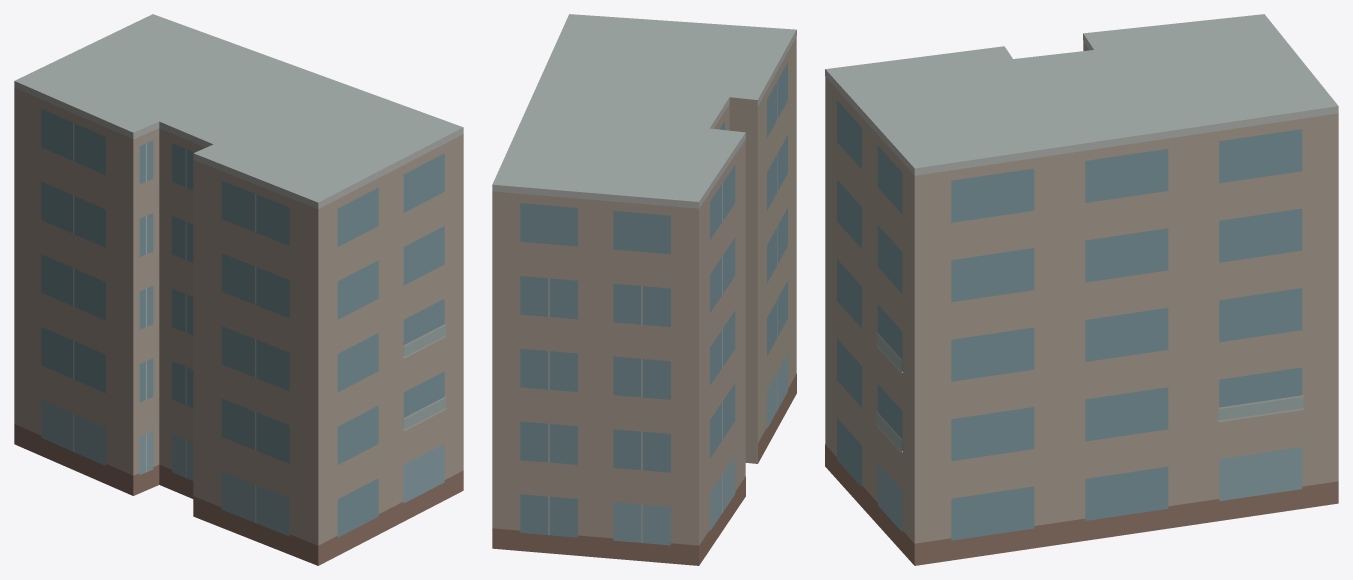
The model's file is survey-upis-32563425.glb.
The picture shows the model from 3 angles, left to right: view 1: azimuth 30°, elevation 25°; view 2: azimuth 150°, elevation 25°; view 3: azimuth 270°, elevation 25°; orthographic projection. The views are drawn at different scales.
Parts seen in each view (by area): view 1: survey-upis-32563425.tmp; view 2: survey-upis-32563425.tmp; view 3: survey-upis-32563425.tmp.
Boxes of the visible parts, x1=… form: survey-upis-32563425.tmp: x1=14, y1=14, x2=463, y2=565; survey-upis-32563425.tmp: x1=492, y1=14, x2=796, y2=565; survey-upis-32563425.tmp: x1=825, y1=14, x2=1338, y2=565.
Bounding box in the file's own units: 11.14 × 13.35 × 15.64.
